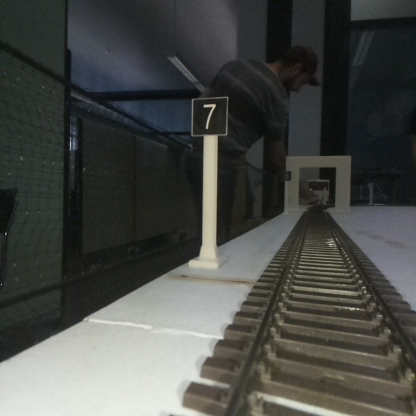black-info-6: (281, 171, 291, 215)
black-info-7: (192, 96, 227, 267)
